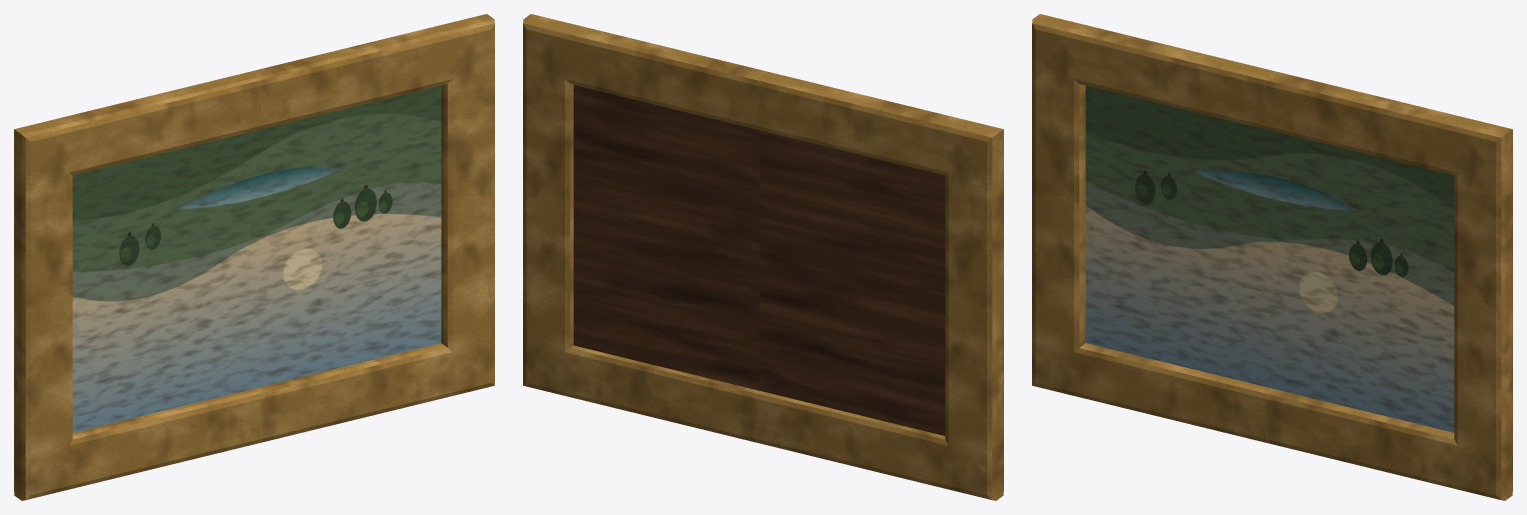
The model's file is picture.glb.
3 renders of one model, left to right at view 1: azimuth 30°, elevation 25°; view 2: azimuth 150°, elevation 25°; view 3: azimuth 330°, elevation 25°, orthographic.
Visible parts, largest first — view 1: Picture_painting, Picture_brass; view 2: Picture_oakDark, Picture_brass; view 3: Picture_painting, Picture_brass.
Part boxes in pixels (<box>): Picture_painting: <box>72,85,441,432</box>; Picture_brass: <box>14,14,494,500</box>; Picture_oakDark: <box>573,85,945,435</box>; Picture_brass: <box>523,14,1003,500</box>; Picture_painting: <box>1085,85,1454,432</box>; Picture_brass: <box>1032,14,1512,500</box>.
Size of the model in its own units: 0.924 by 0.684 by 0.045.
Materials: 3 (3 with a texture image).
